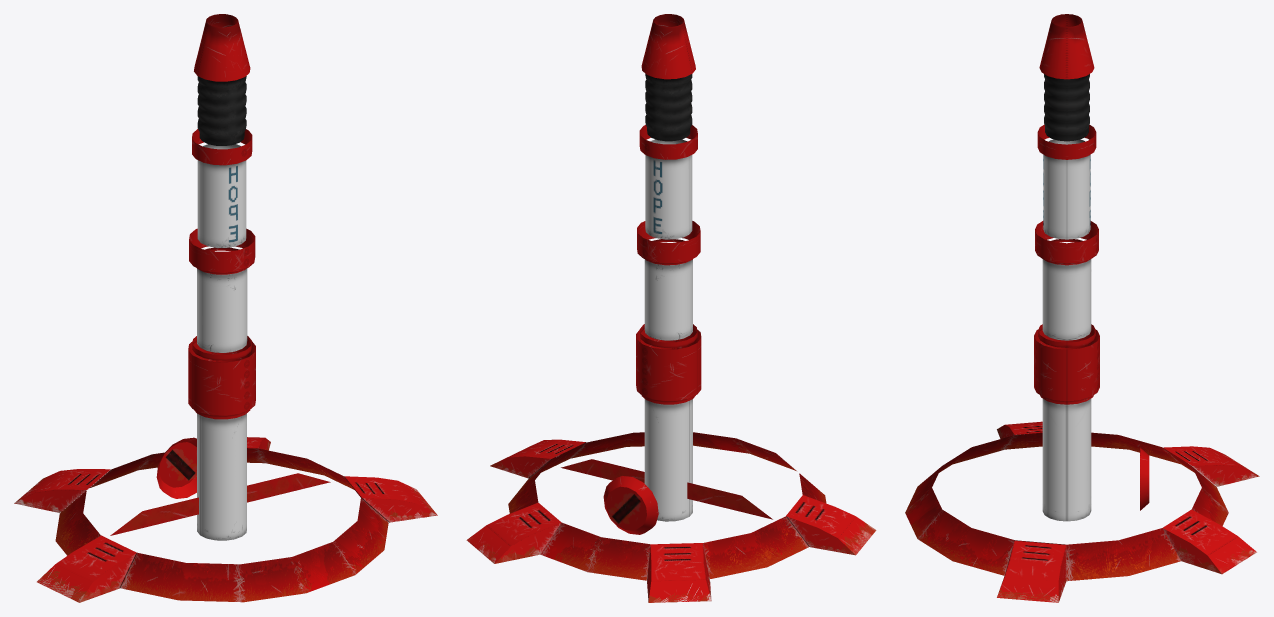
File: Hope.fbx
3 views of the same model, side by side, from view 1: azimuth 30°, elevation 25°; view 2: azimuth 150°, elevation 25°; view 3: azimuth 270°, elevation 25° (orthographic). The views are drawn at different scales.
Parts seen in each view (by area): view 1: Cannon, Feet, Skrew; view 2: Cannon, Feet, Skrew; view 3: Cannon, Feet, Skrew.
Part boxes in pixels (x1=…): Cannon: x1=188, y1=14, x2=255, y2=540; Feet: x1=14, y1=437, x2=437, y2=602; Skrew: x1=156, y1=437, x2=196, y2=498; Cannon: x1=636, y1=14, x2=701, y2=521; Feet: x1=466, y1=432, x2=876, y2=602; Skrew: x1=603, y1=476, x2=658, y2=534; Cannon: x1=1034, y1=14, x2=1099, y2=521; Feet: x1=905, y1=421, x2=1259, y2=602; Skrew: x1=1140, y1=447, x2=1149, y2=510.
Size of the model in its own units: 1740 by 1460 by 2239.
Materials: 1 (1 with a texture image).
